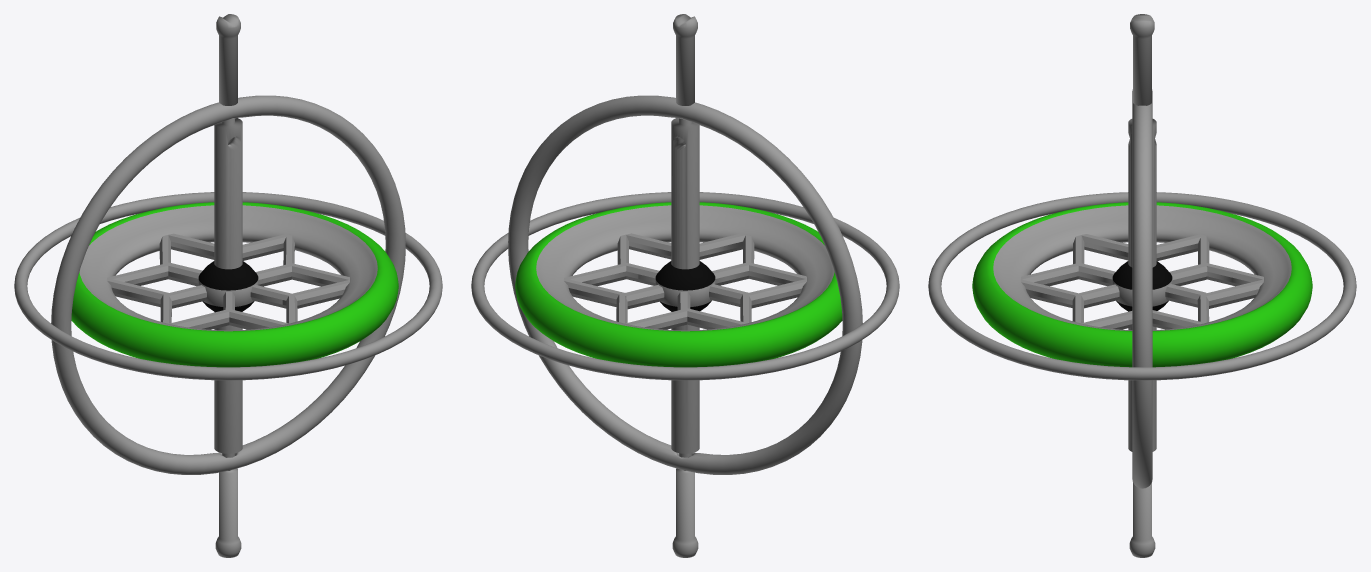
The model's file is Gyroscope.FBX.
3 views of the same model, side by side, from view 1: azimuth 30°, elevation 25°; view 2: azimuth 150°, elevation 25°; view 3: azimuth 270°, elevation 25° (orthographic).
Visible parts, largest first — view 1: gyro wheel, inner frame, outer frame, gyrostar, shaft, hub, top part, bottom part; view 2: gyro wheel, inner frame, outer frame, gyrostar, shaft, hub, top part, bottom part; view 3: gyro wheel, outer frame, gyrostar, inner frame, shaft, top part, hub, bottom part.
Boxes of the visible parts, box(x1,y1,x2,y2) form: gyro wheel: box(71, 202, 398, 367); inner frame: box(51, 95, 405, 474); outer frame: box(14, 192, 442, 380); gyrostar: box(107, 233, 349, 329); shaft: box(214, 118, 242, 470); hub: box(198, 261, 258, 312); top part: box(216, 14, 240, 105); bottom part: box(215, 468, 241, 557); gyro wheel: box(515, 202, 842, 367); inner frame: box(508, 95, 862, 474); outer frame: box(471, 192, 899, 380); gyrostar: box(564, 233, 806, 329); shaft: box(671, 118, 699, 470); hub: box(655, 261, 715, 311); top part: box(673, 14, 697, 105); bottom part: box(672, 468, 698, 557); gyro wheel: box(972, 202, 1312, 367); outer frame: box(928, 192, 1356, 380); gyrostar: box(1021, 234, 1263, 329); inner frame: box(1132, 89, 1152, 488); shaft: box(1128, 119, 1156, 451); top part: box(1130, 14, 1154, 105); hub: box(1112, 261, 1172, 311); bottom part: box(1129, 482, 1155, 557).
Bounding box in the file's own units: 105 × 105 × 144.
